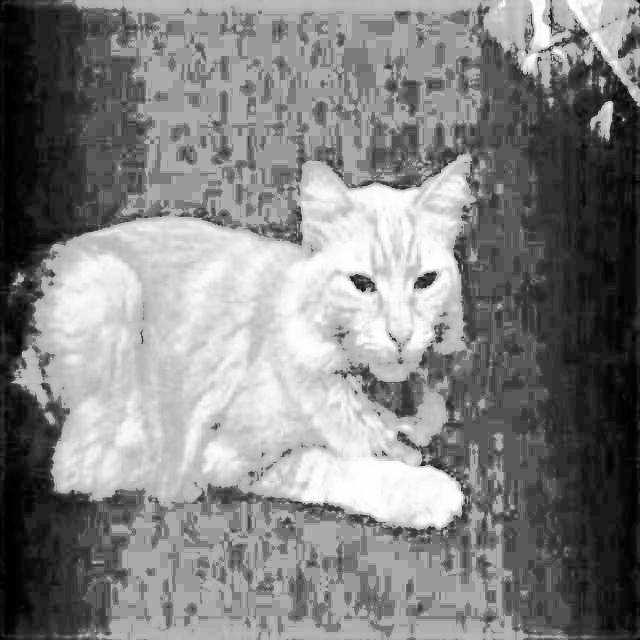Cat: (0, 146, 478, 530)
